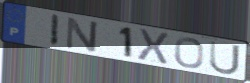1: (117, 26, 135, 60)
I: (48, 13, 62, 49)
N: (64, 16, 100, 54)
O: (173, 36, 206, 69)
U: (208, 39, 242, 77)
X: (136, 27, 171, 66)
